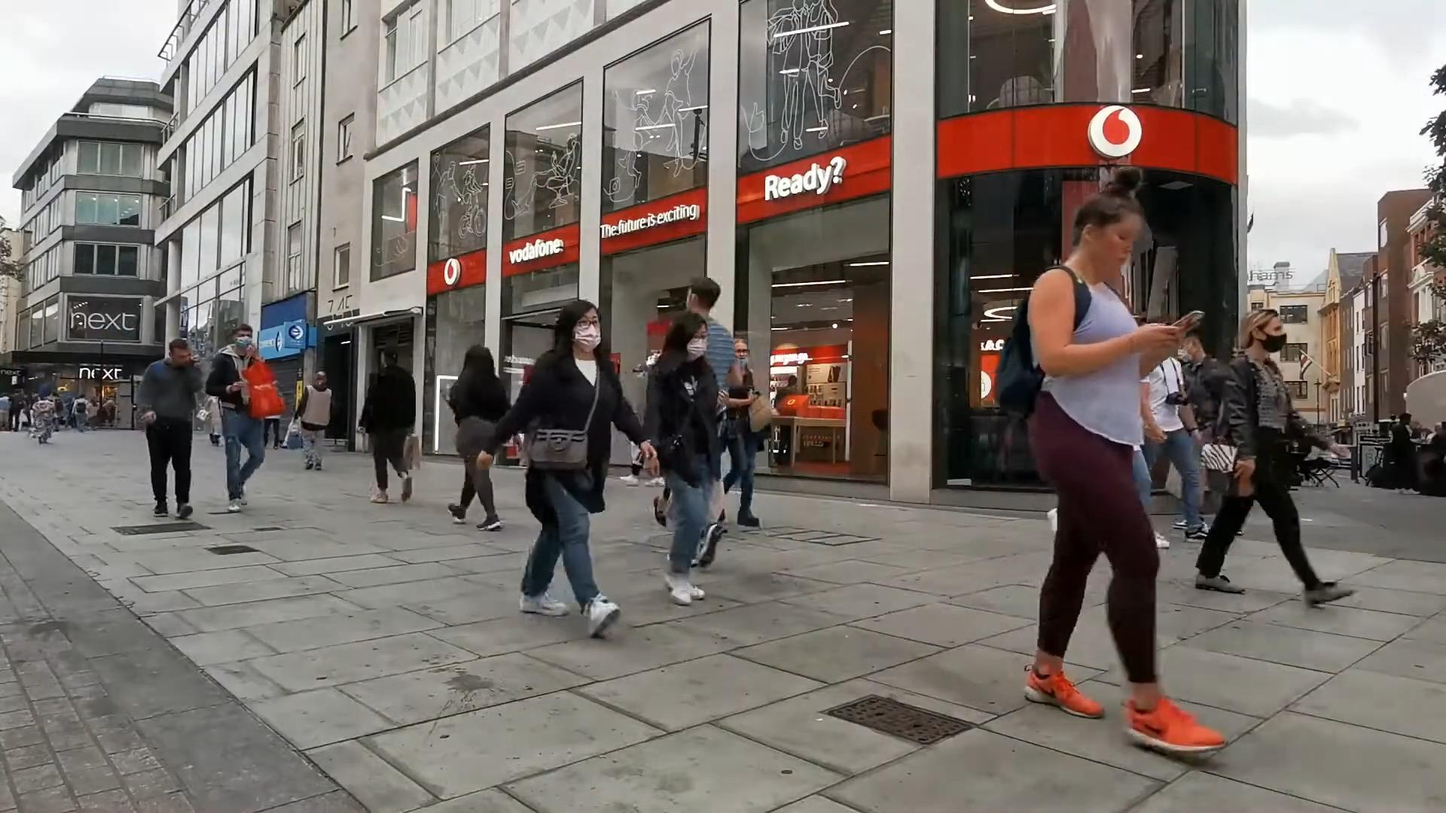no-helmet: (1072, 168, 1145, 272), (556, 299, 604, 355), (661, 312, 710, 360), (1241, 307, 1287, 355), (458, 344, 499, 381), (686, 276, 722, 313), (1177, 331, 1203, 363), (168, 337, 192, 368), (231, 323, 253, 350), (734, 338, 750, 368)
